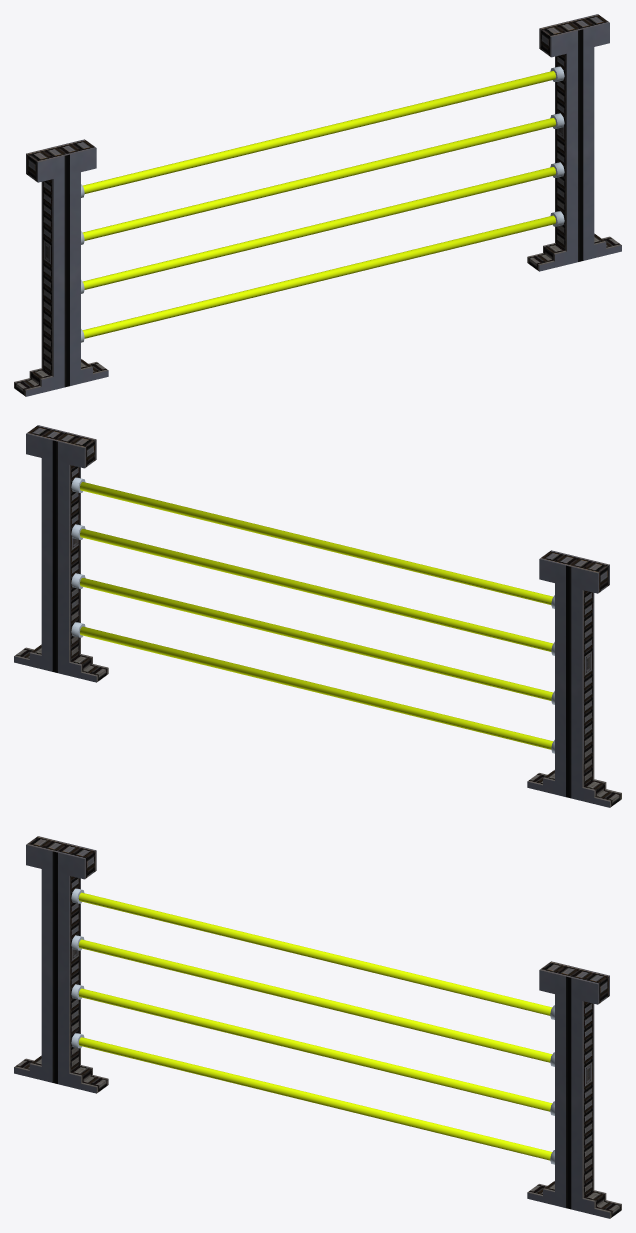
The model's file is futuristic_sci-fi_laser_barrier.glb.
3 renders of one model, top to bottom at view 1: azimuth 30°, elevation 25°; view 2: azimuth 150°, elevation 25°; view 3: azimuth 330°, elevation 25°, orthographic.
Parts seen in each view (by area): view 1: Scifi_WidthLaser_barrier; view 2: Scifi_WidthLaser_barrier; view 3: Scifi_WidthLaser_barrier.
Boxes of the visible parts, box(x1,y1,x2,y2) form: Scifi_WidthLaser_barrier: box(14, 14, 621, 396); Scifi_WidthLaser_barrier: box(14, 425, 621, 807); Scifi_WidthLaser_barrier: box(14, 836, 621, 1218).
Size of the model in its own units: 3.96 by 1.47 by 0.1377.
Materials: 1 (1 with a texture image).
